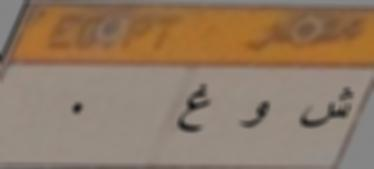0: (63, 90, 90, 126)
ghayn: (174, 78, 215, 136)
sheen: (298, 83, 354, 130)
waw: (232, 90, 274, 137)
